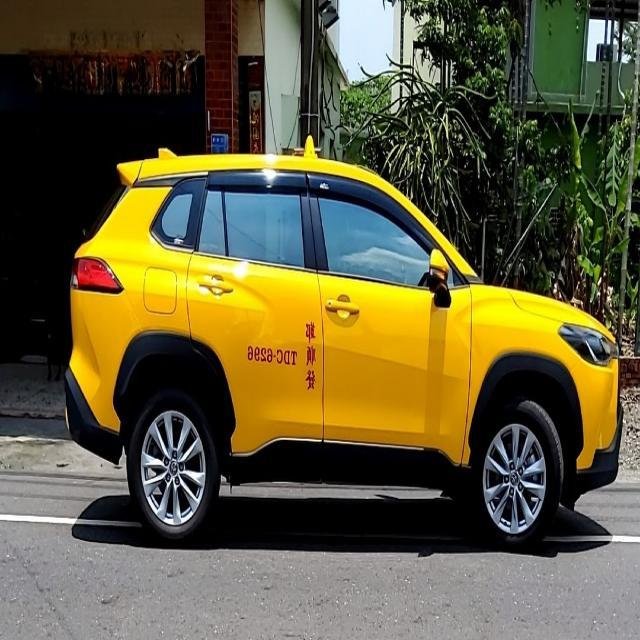taxi: (53, 129, 639, 558)
